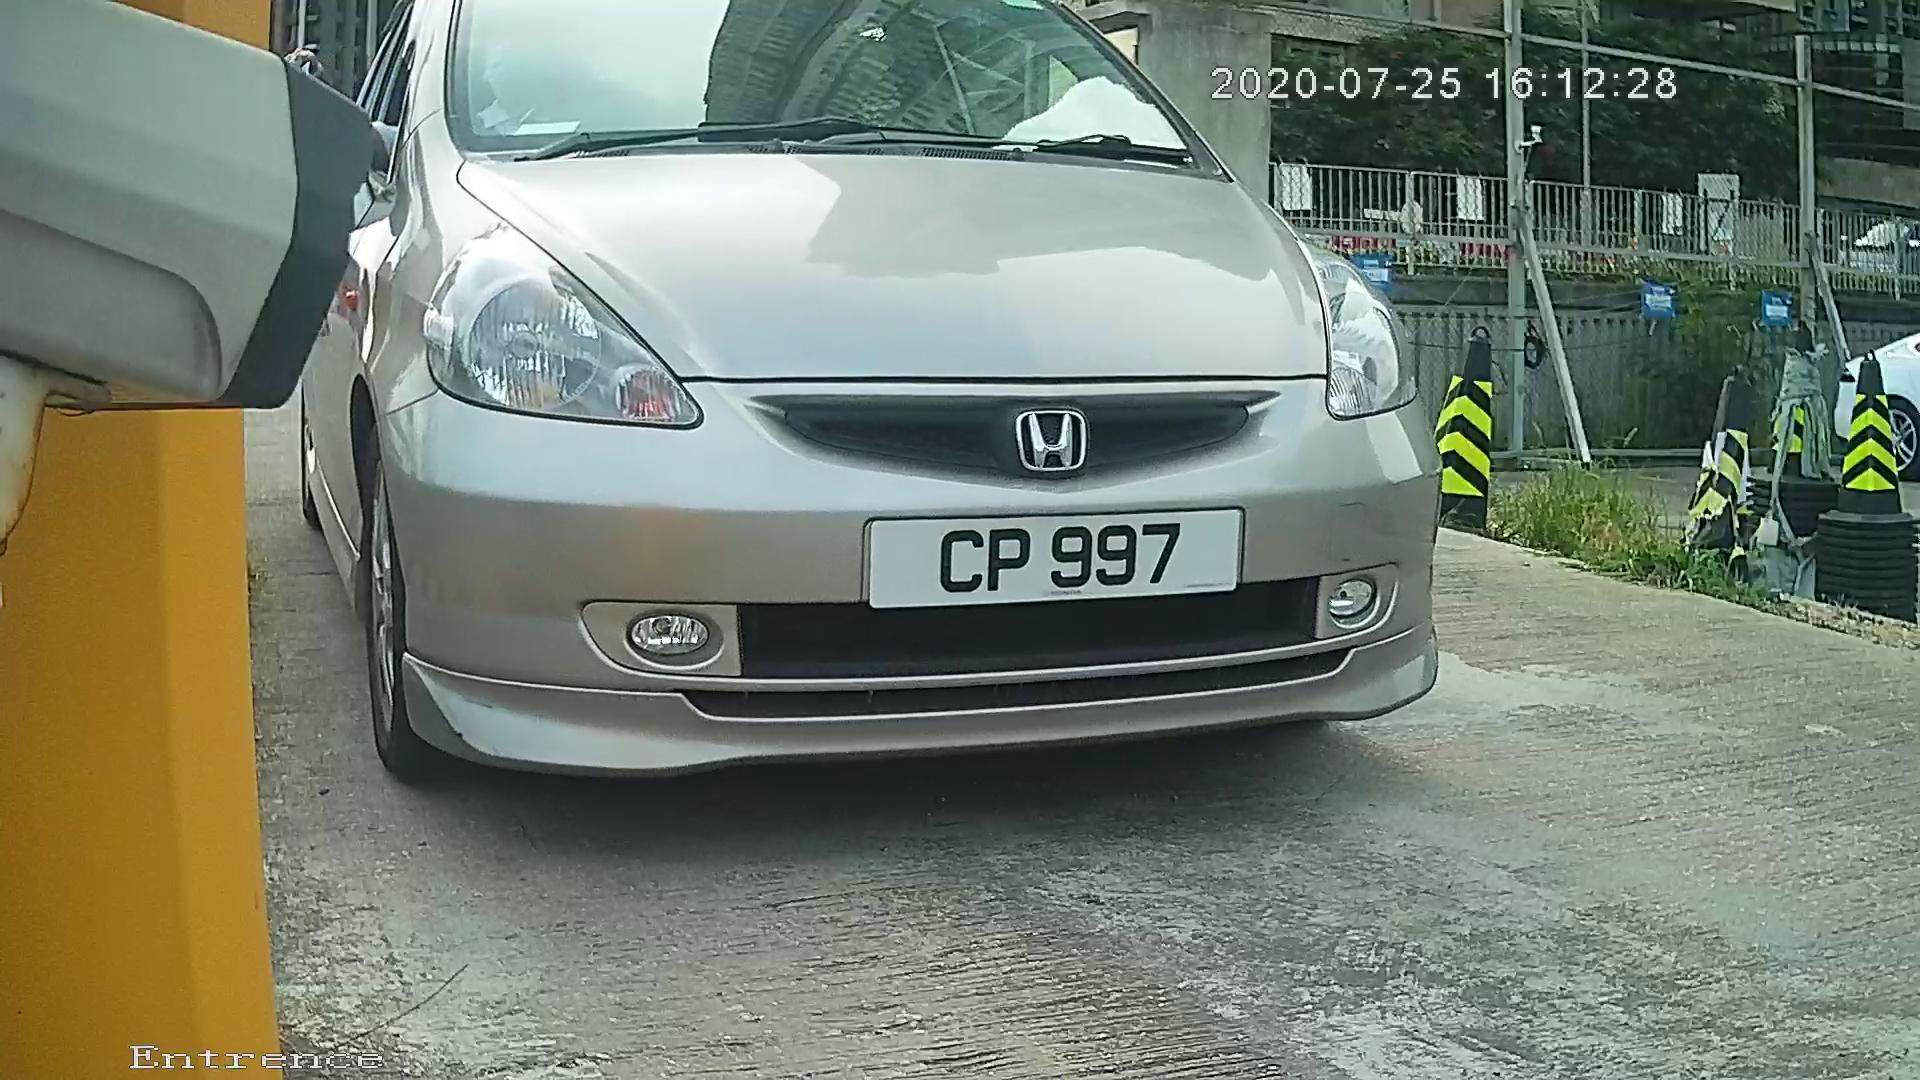License Plate: (866, 492, 1261, 622)
